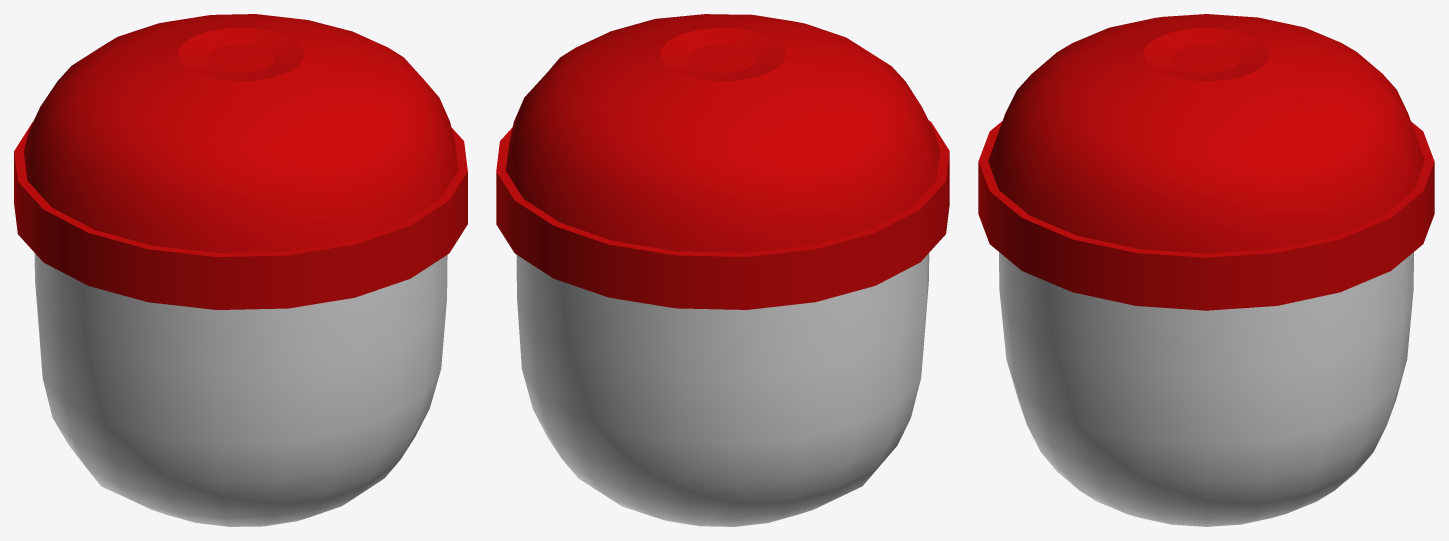
3 renders of one model, left to right at view 1: azimuth 30°, elevation 25°; view 2: azimuth 150°, elevation 25°; view 3: azimuth 270°, elevation 25°, orthographic.
Parts seen in each view (by area): view 1: pSphere3; view 2: pSphere3; view 3: pSphere3.
Boxes of the visible parts, x1=… form: pSphere3: x1=14, y1=14, x2=467, y2=526; pSphere3: x1=496, y1=14, x2=949, y2=526; pSphere3: x1=978, y1=14, x2=1434, y2=526.
Bounding box in the file's own units: 2.25 × 2.43 × 2.25.
